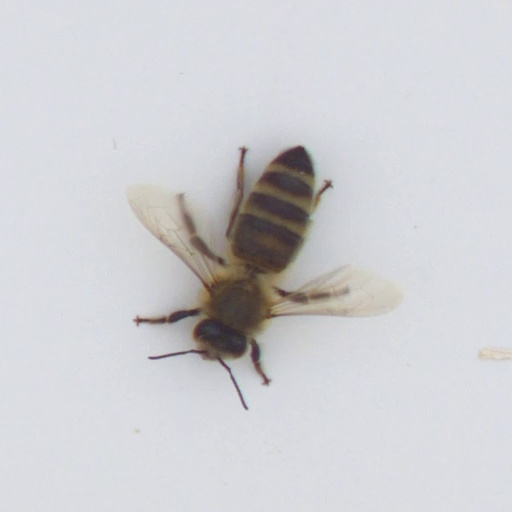Bee: (187, 124, 346, 376)
Thorax: (200, 267, 275, 332)
